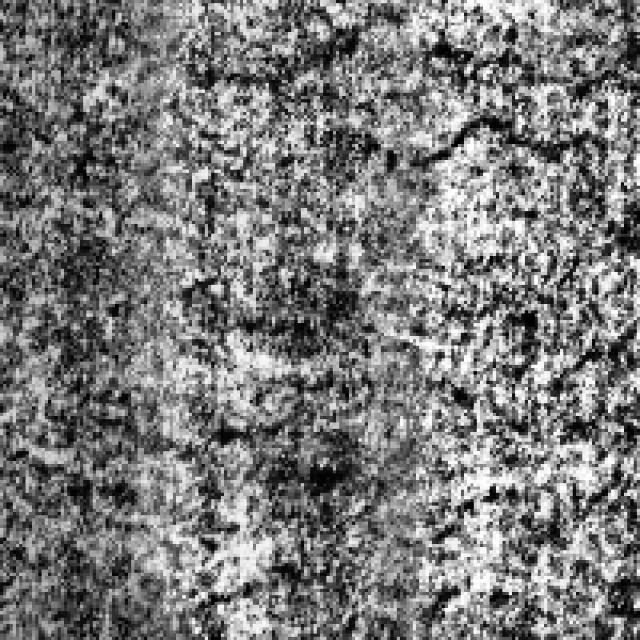Pitted_Surface: (6, 407, 349, 596), (154, 60, 612, 164)
